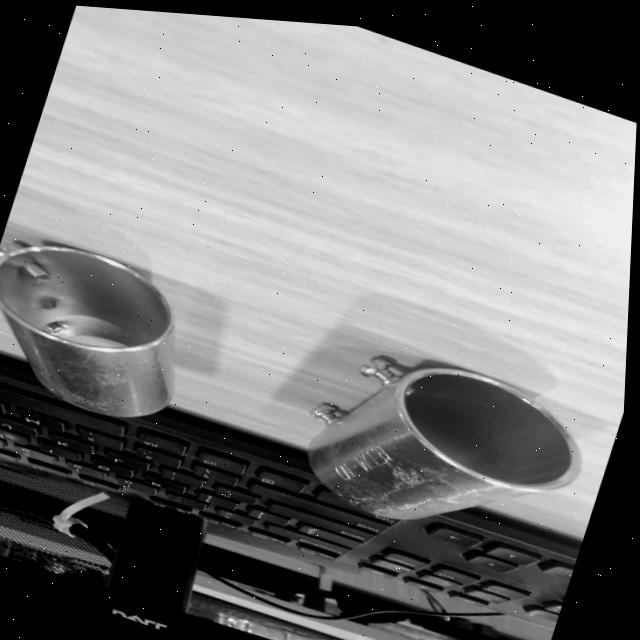Co_Lon: (290, 345, 597, 550)
Co_Nho: (0, 241, 173, 415)
